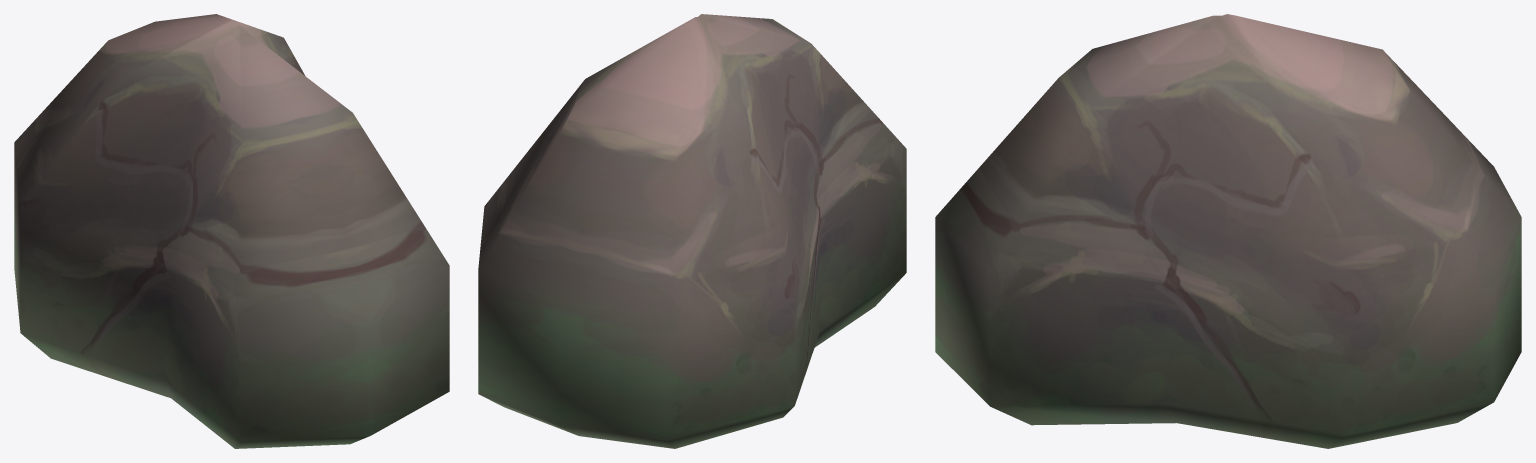
File: Rock02.FBX
3 views of the same model, side by side, from view 1: azimuth 30°, elevation 25°; view 2: azimuth 150°, elevation 25°; view 3: azimuth 270°, elevation 25° (orthographic). The views are drawn at different scales.
Parts seen in each view (by area): view 1: Rock02; view 2: Rock02; view 3: Rock02.
Part boxes in pixels (bbox=[...]): Rock02: bbox=[14, 14, 449, 448]; Rock02: bbox=[478, 14, 906, 448]; Rock02: bbox=[935, 14, 1521, 448].
Bounding box in the file's own units: 115 × 118 × 173.
